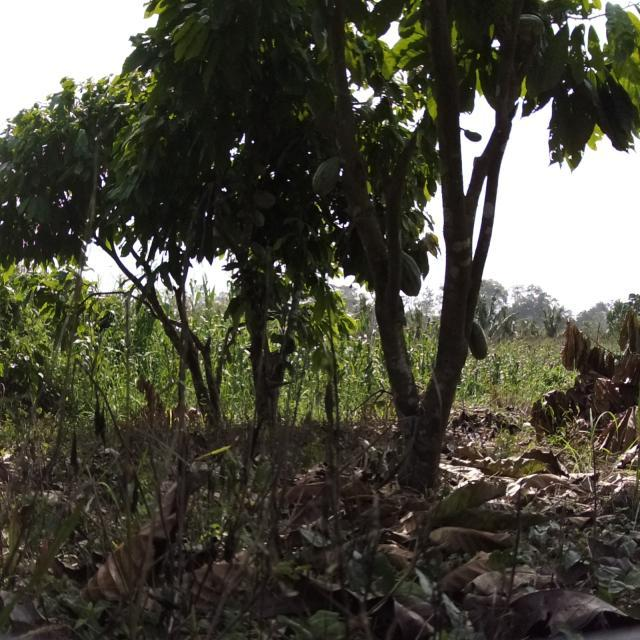Immature: (455, 121, 485, 151)
Mature_Unripe: (395, 243, 435, 297), (311, 155, 346, 197), (464, 319, 499, 361), (245, 192, 279, 228), (249, 240, 275, 268)
